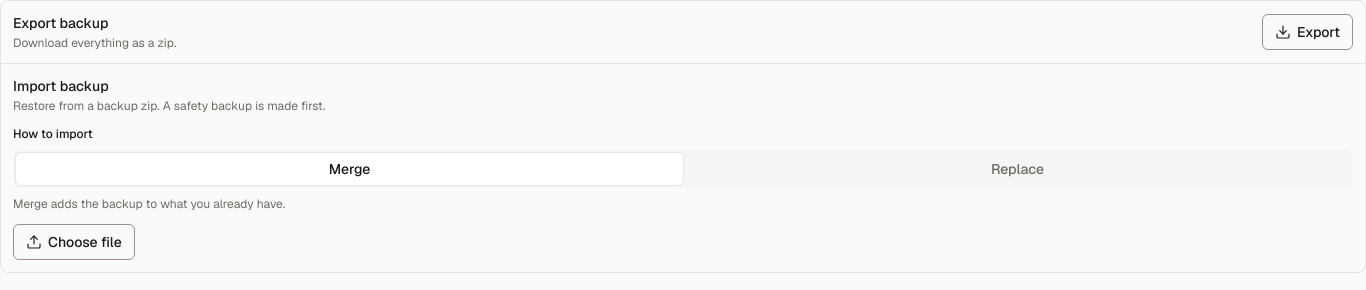
Test case: DataPanel › describes replace once replace is chosen
Click the button "Replace": click(1018, 169) [684,152,1351,186]
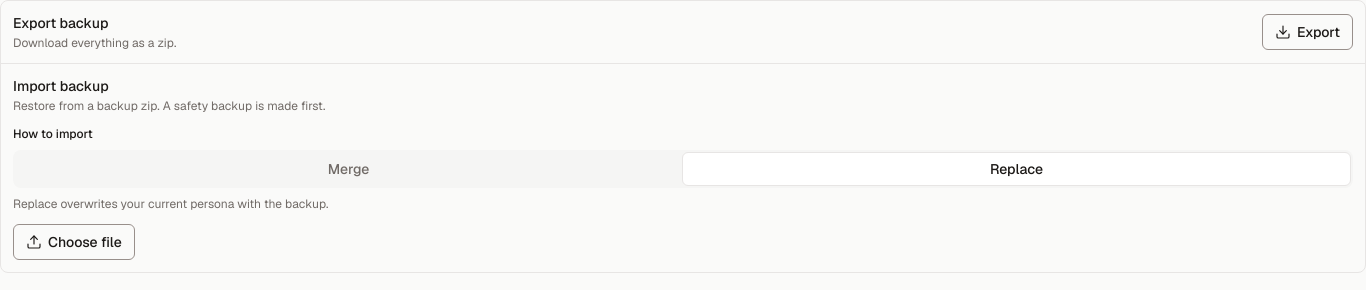
Check: the text "Replace overwrites your current persona with the backup." is shown, box [13,196,328,212]
